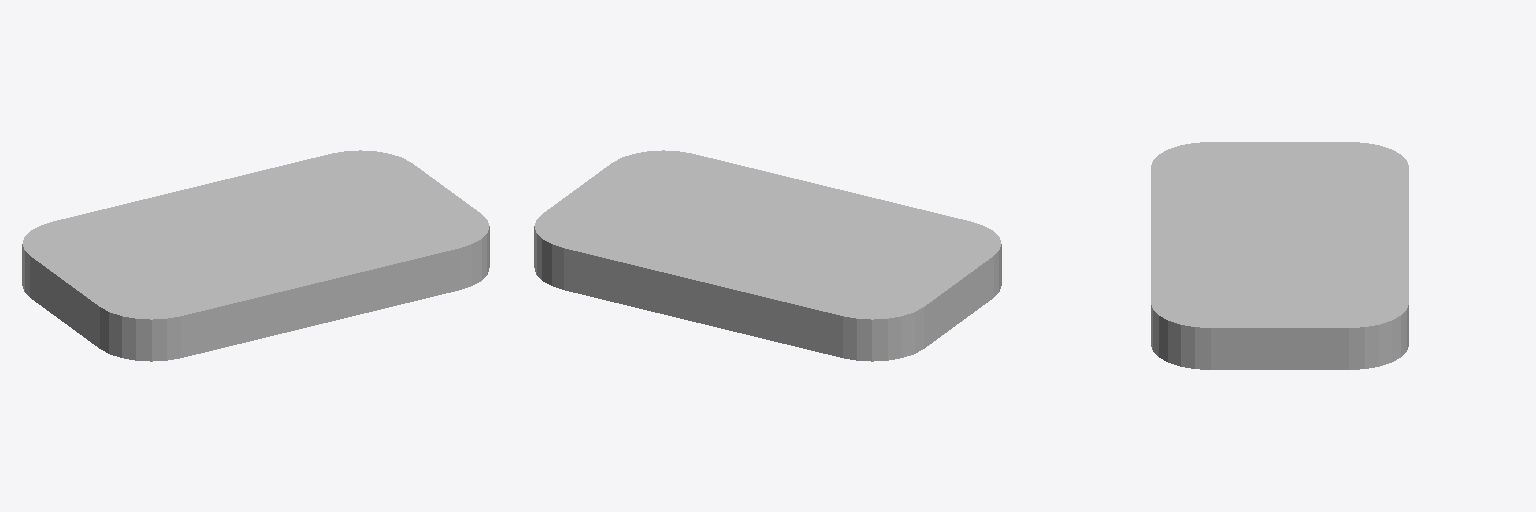
The model's file is original-30.obj.
3 views of the same model, side by side, from view 1: azimuth 30°, elevation 25°; view 2: azimuth 150°, elevation 25°; view 3: azimuth 270°, elevation 25° (orthographic).
Visible parts, largest first — view 1: mesh29/mesh29-geometry#mesh29-geometry; view 2: mesh29/mesh29-geometry#mesh29-geometry; view 3: mesh29/mesh29-geometry#mesh29-geometry.
Boxes of the visible parts, x1,y1,x2,y2 form: mesh29/mesh29-geometry#mesh29-geometry: [22, 150, 489, 361]; mesh29/mesh29-geometry#mesh29-geometry: [534, 150, 1001, 361]; mesh29/mesh29-geometry#mesh29-geometry: [1151, 142, 1408, 369].
Bounding box in the file's own units: 0.0609 × 0.0064 × 0.0357.